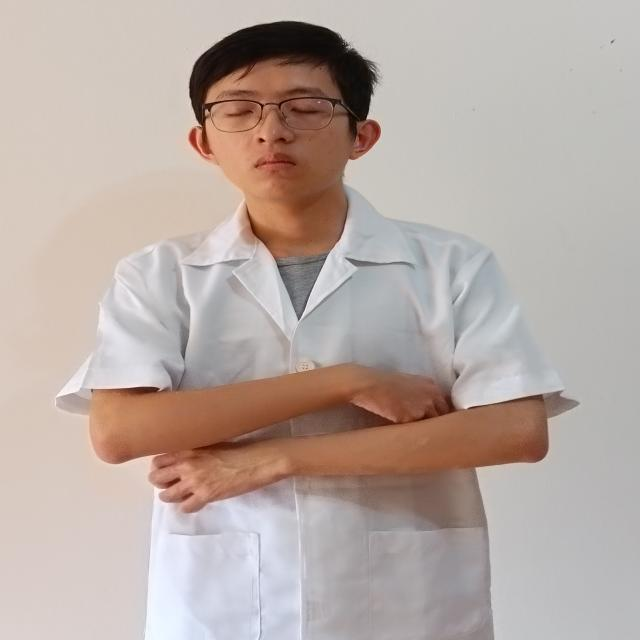person_with_labcoat: (56, 22, 578, 640)
